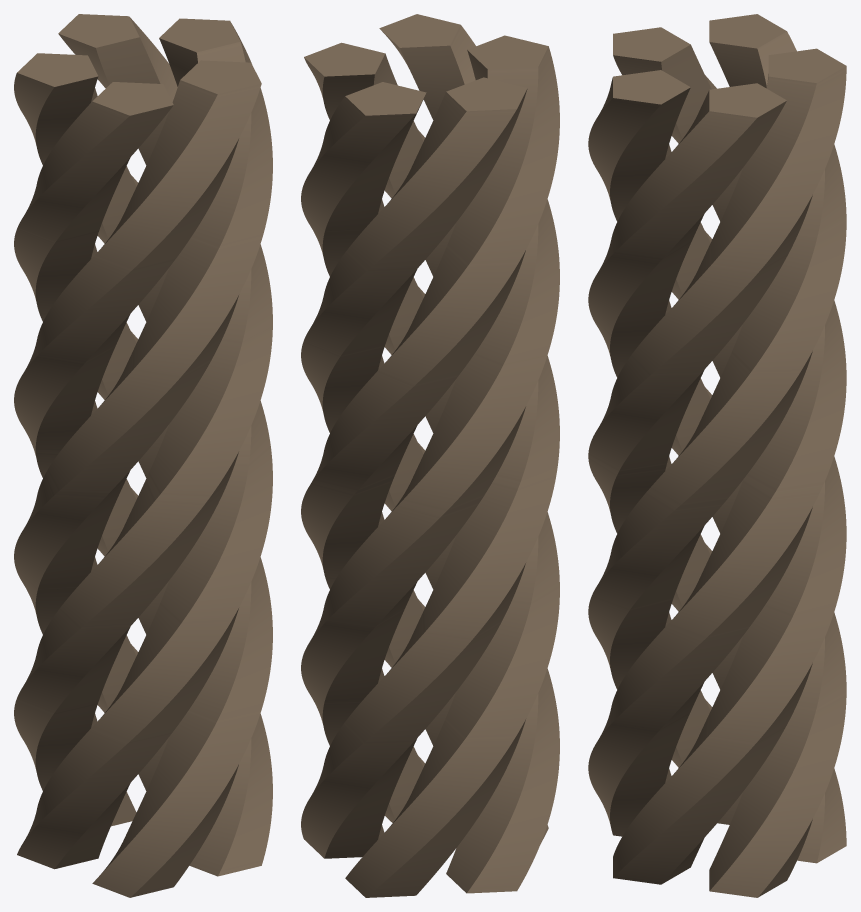
Rendered from Rope.fbx.
The picture shows the model from 3 angles, left to right: view 1: azimuth 30°, elevation 25°; view 2: azimuth 150°, elevation 25°; view 3: azimuth 270°, elevation 25°; orthographic projection.
Visible parts, largest first — view 1: sweep1; view 2: sweep1; view 3: sweep1.
Part boxes in pixels (x1,y1,x2,y2): sweep1: (14, 14, 272, 897); sweep1: (301, 14, 559, 897); sweep1: (588, 14, 846, 897).
Bounding box in the file's own units: 3 × 10 × 3.
